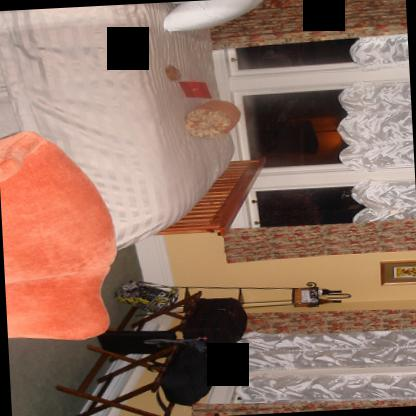backpack: (112, 280, 179, 313)
handbag: (111, 279, 177, 312)
suitcase: (183, 297, 247, 355)
